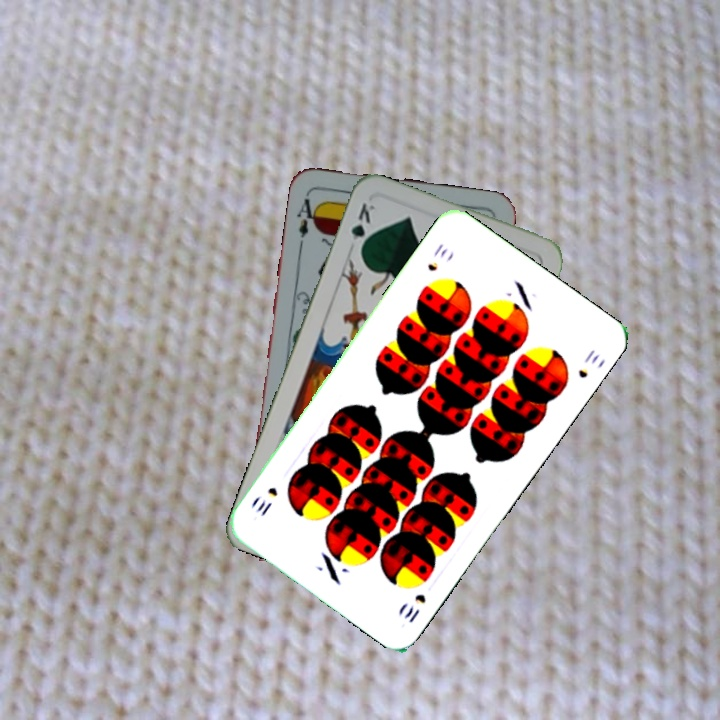EA: (292, 194, 321, 249)
GK: (346, 198, 377, 256)
S10: (400, 589, 429, 626), (423, 239, 450, 274)
